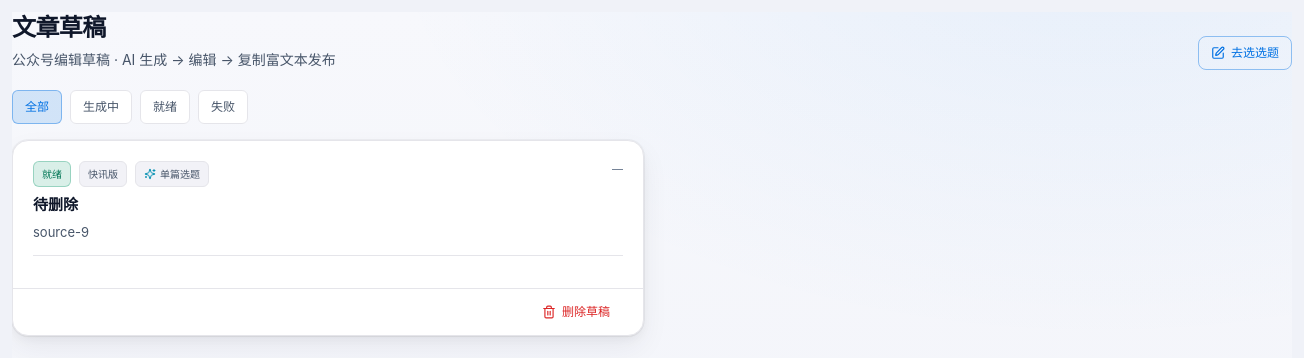
Test case: Drafts regression scenarios › keeps a new filter request alive when an earlier delete completes
Click the button with aria-label "删除草稿「待删除」" at (576, 312), box [529,297,623,327]
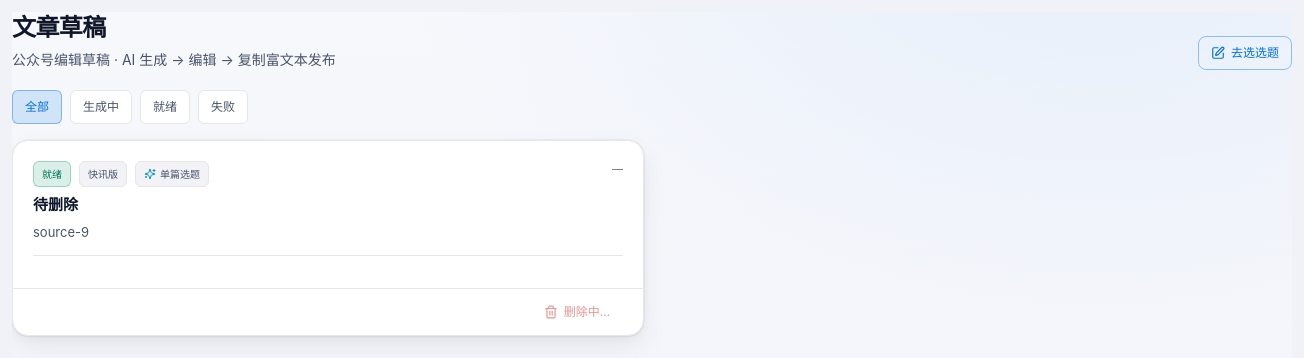
Click the button "就绪" at (165, 107), box [140,90,190,124]
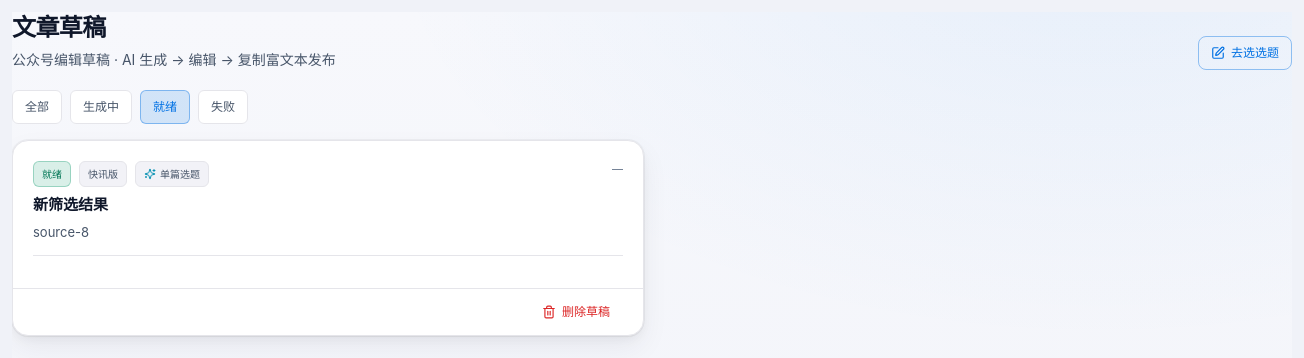
Expected: the button with aria-label "查看草稿「新筛选结果」" is shown, [13,141,643,288]
